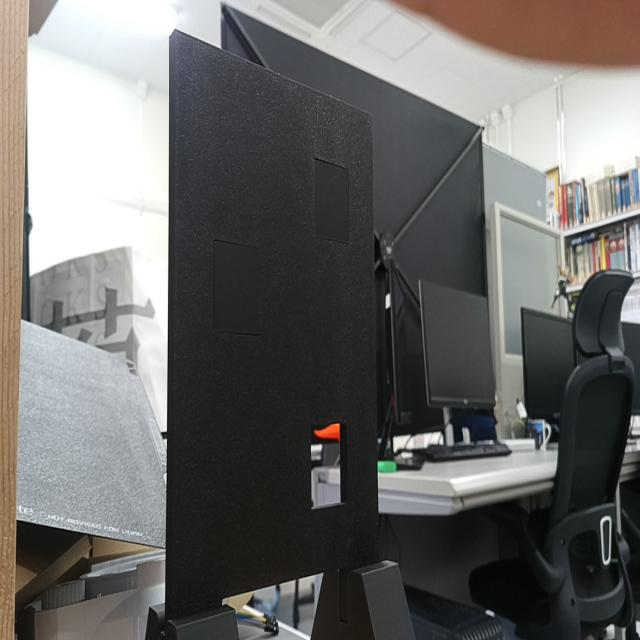Obstacle: (311, 423, 347, 509)
Wall: (166, 31, 378, 619)
